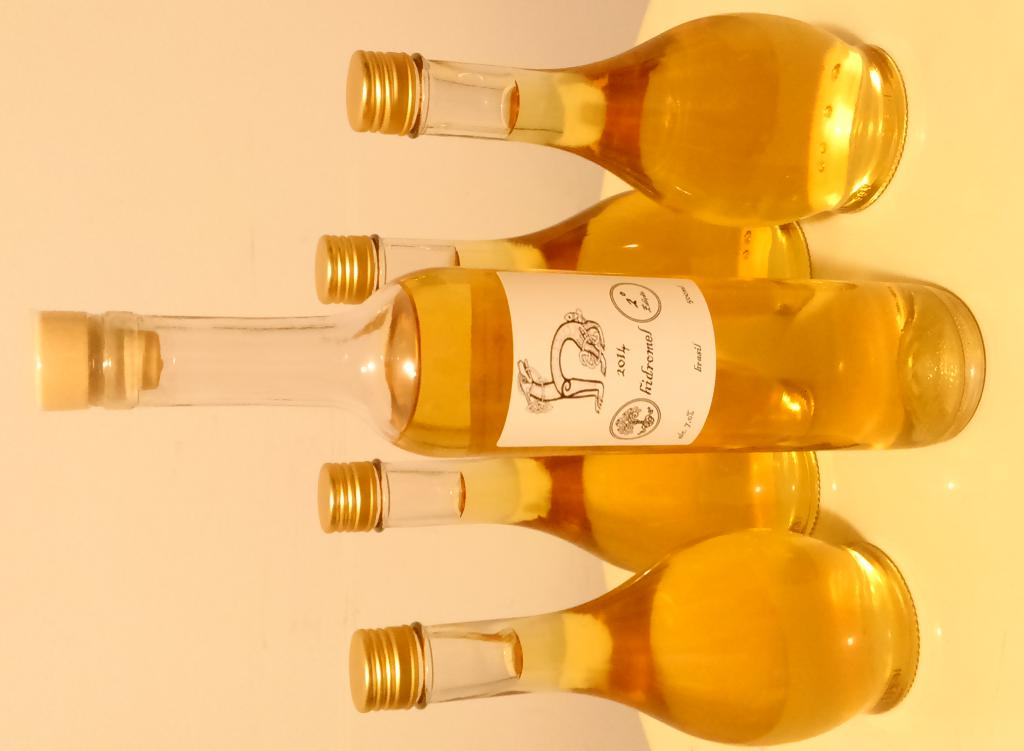can: (35, 11, 986, 746)
